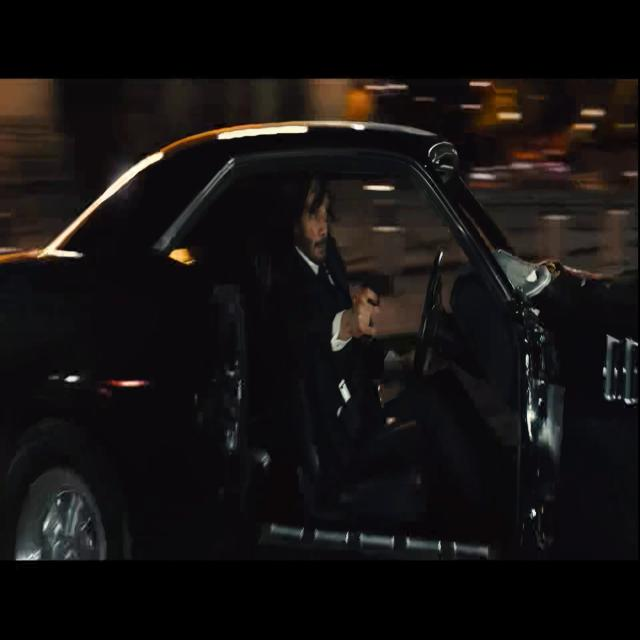weapons: (349, 256, 399, 345)
